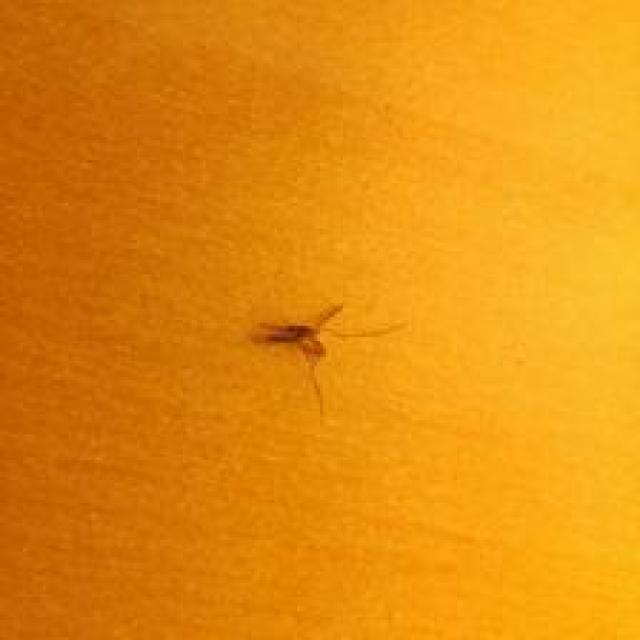Culex: (247, 298, 407, 416)
